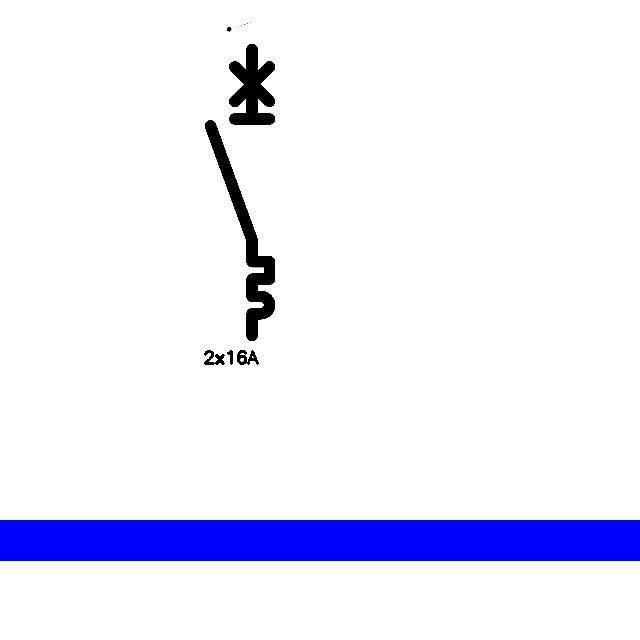interruptor_termomagnetico: (203, 42, 277, 343)
